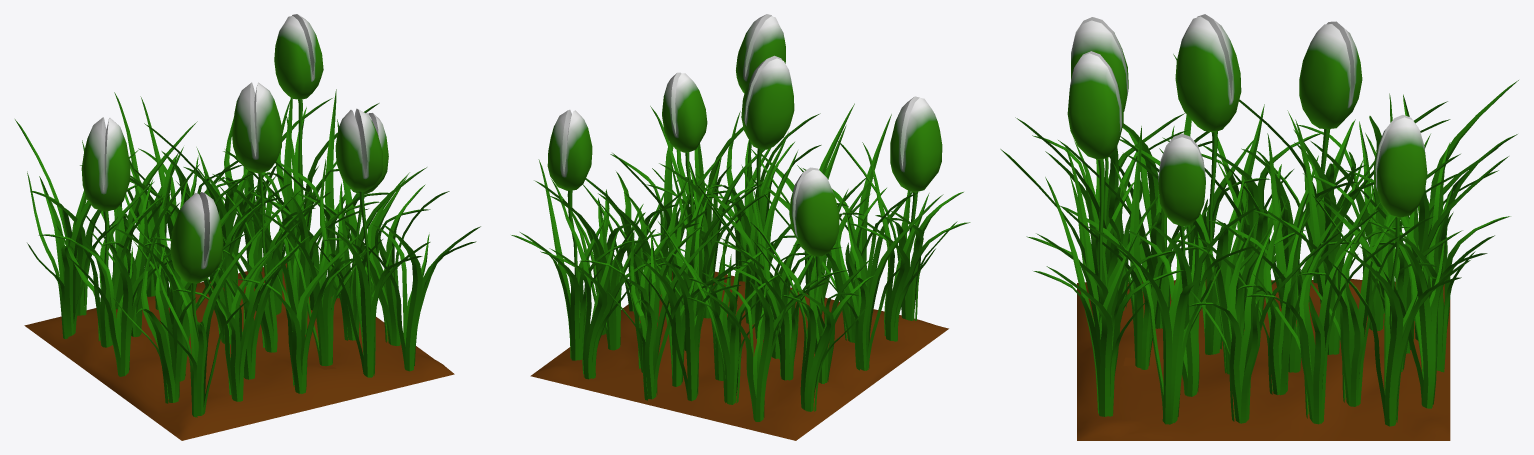
The model's file is white-tulip-p3-leaf.glb.
The picture shows the model from 3 angles, left to right: view 1: azimuth 30°, elevation 25°; view 2: azimuth 150°, elevation 25°; view 3: azimuth 270°, elevation 25°; orthographic projection. The views are drawn at different scales.
Parts seen in each view (by area): view 1: 3_nft_out_of _bloom; view 2: 3_nft_out_of _bloom; view 3: 3_nft_out_of _bloom.
Part boxes in pixels (x1,y1,x2,y2): 3_nft_out_of _bloom: (15,14,480,440); 3_nft_out_of _bloom: (511,14,970,440); 3_nft_out_of _bloom: (1000,14,1518,440).
Size of the model in its own units: 0.8884 by 0.7044 by 0.9749.
Materials: 3 (1 with a texture image).
